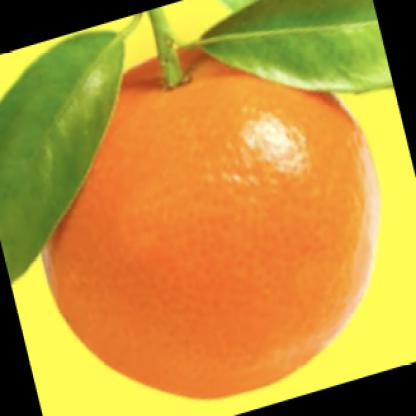orange: (33, 41, 383, 402)
